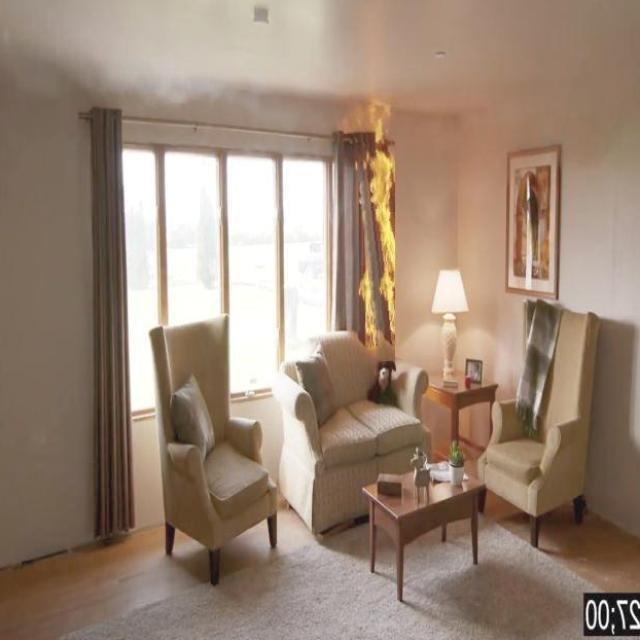fire: (0, 40, 253, 106)
smoke: (349, 87, 396, 362)
